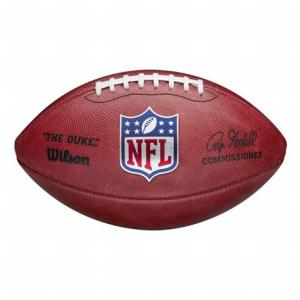Rugby: (15, 68, 287, 230)
